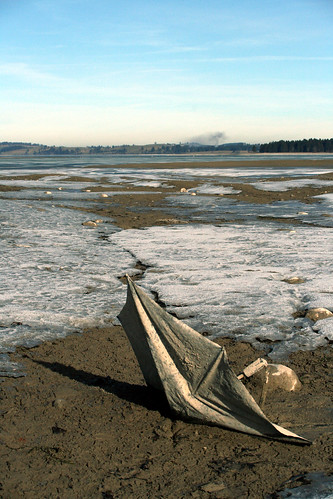sky: (1, 1, 333, 137)
trash: (99, 274, 291, 469)
vegetation: (1, 137, 330, 155)
